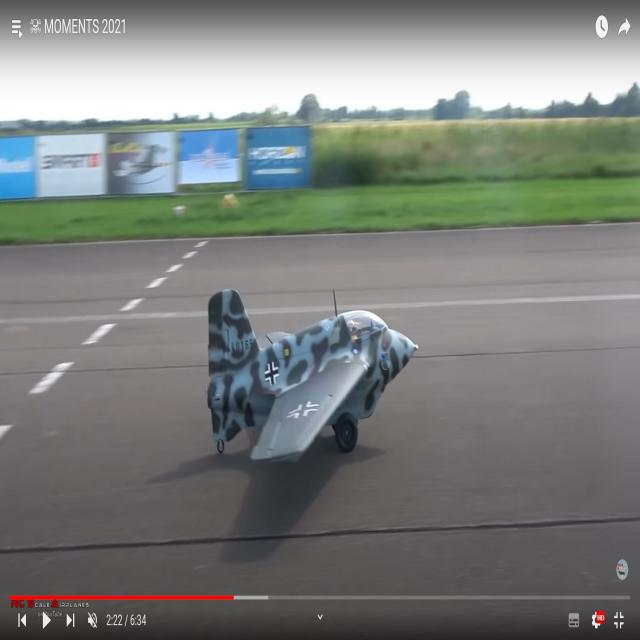iha: (206, 285, 417, 466)
